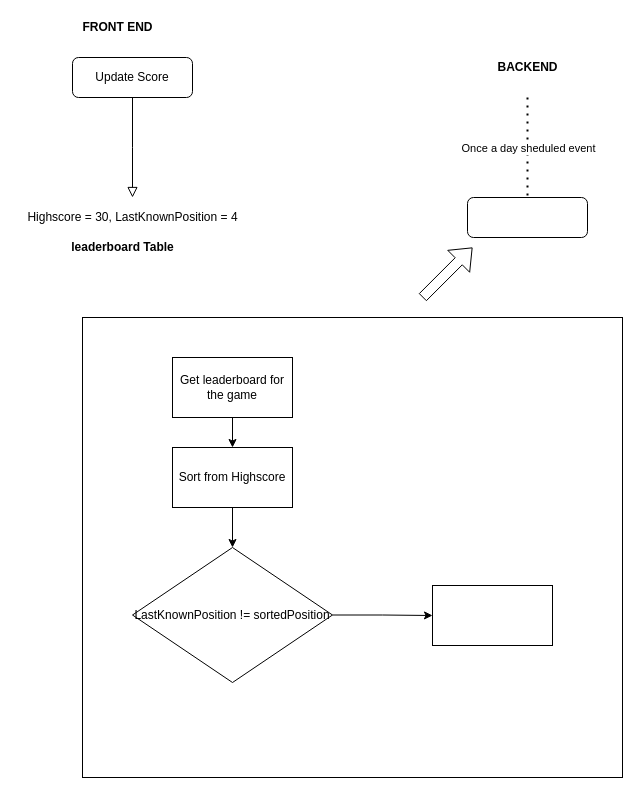
Some shapes in this 640 by 795 pixel diagram are drawn without their labels. Here are the shapes that lost their labels. From the top down, the box of each, then its label:
(466, 196, 588, 238): Leaderboard Updates Lambda
(432, 584, 552, 646): Send Email
